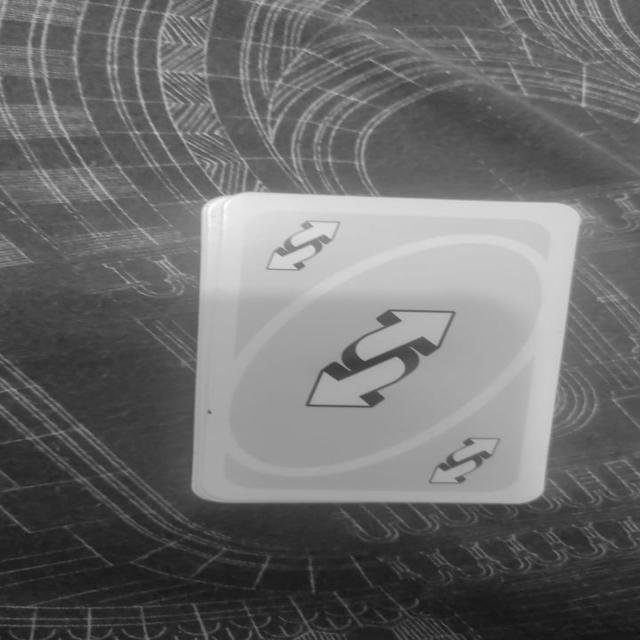reverse_card: (189, 190, 582, 504)
